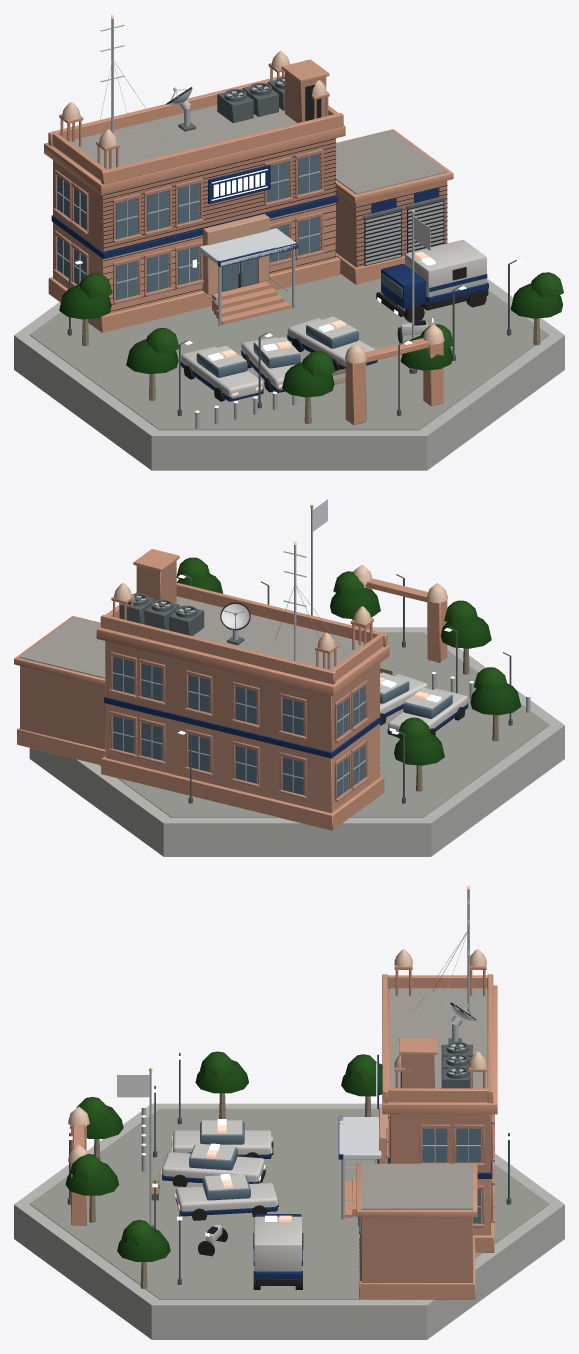
Rendered from policeStation_india.glb.
3 renders of one model, top to bottom at view 1: azimuth 30°, elevation 25°; view 2: azimuth 150°, elevation 25°; view 3: azimuth 270°, elevation 25°, orthographic. The views are drawn at different scales.
Parts seen in each view (by area): view 1: pavers, stone, wall_concrete, brick, paint, glass, gravel, leaf, dark, metal, steel_dark, cladding (+3 smaller); view 2: stone, wall_concrete, brick, pavers, glass, leaf, gravel, paint, steel_dark, metal, plaster, wood; view 3: pavers, wall_concrete, stone, brick, gravel, paint, leaf, glass, steel_dark, metal, dark, cladding (+3 smaller).
Part boxes in pixels (<box>): pavers: <box>30,274,548,430</box>; stone: <box>44,59,453,424</box>; wall_concrete: <box>14,156,564,470</box>; brick: <box>53,71,447,304</box>; paint: <box>51,87,488,401</box>; glass: <box>57,154,402,377</box>; gravel: <box>70,105,447,194</box>; leaf: <box>59,272,563,397</box>; dark: <box>103,81,488,401</box>; metal: <box>92,18,443,428</box>; steel_dark: <box>67,76,516,415</box>; cladding: <box>199,228,297,266</box>; stone: <box>14,549,447,830</box>; wall_concrete: <box>29,627,564,856</box>; brick: <box>20,561,379,801</box>; pavers: <box>99,632,549,817</box>; glass: <box>113,656,452,797</box>; leaf: <box>176,557,521,765</box>; gravel: <box>19,597,366,678</box>; paint: <box>104,603,468,758</box>; steel_dark: <box>120,574,512,803</box>; metal: <box>133,508,530,712</box>; plaster: <box>114,564,447,649</box>; wood: <box>352,619,498,791</box>; pavers: <box>29,1108,549,1299</box>; wall_concrete: <box>14,1103,564,1339</box>; stone: <box>71,960,497,1299</box>; brick: <box>361,1054,494,1282</box>; gravel: <box>361,988,487,1209</box>; paint: <box>162,1003,492,1278</box>; leaf: <box>65,1051,382,1261</box>; glass: <box>189,1121,480,1223</box>; steel_dark: <box>67,1038,511,1284</box>; metal: <box>141,889,471,1279</box>; dark: <box>172,1002,476,1289</box>; cladding: <box>339,1117,381,1159</box>.
Bounding box in the file's own units: 21.3 × 15.3 × 24.6.
